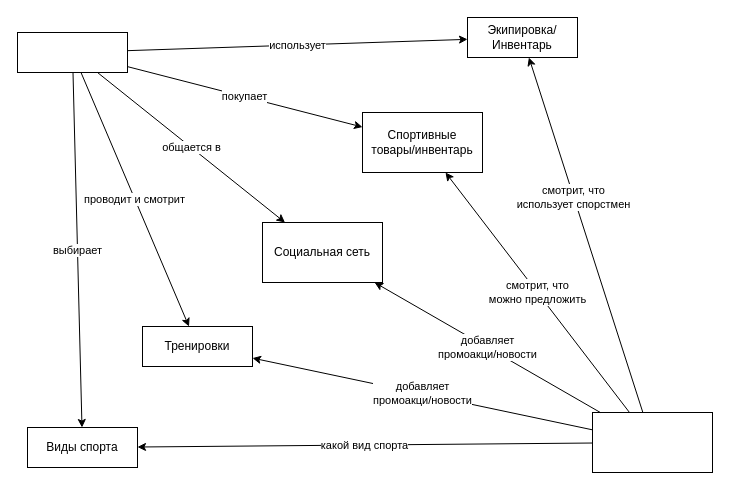
Some shapes in this 730 by 490 pixel diagram are drawn without their labels. Here are the shapes that lost their labels. From the top down, the box of each, then its label:
(16, 32, 128, 72): Спортсмен
(592, 412, 712, 472): Промоакции/Новости
